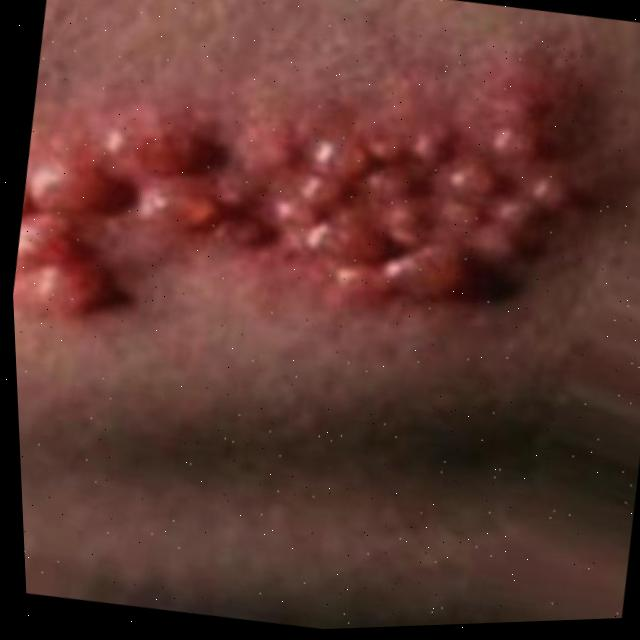Shingles: (2, 33, 591, 405)
